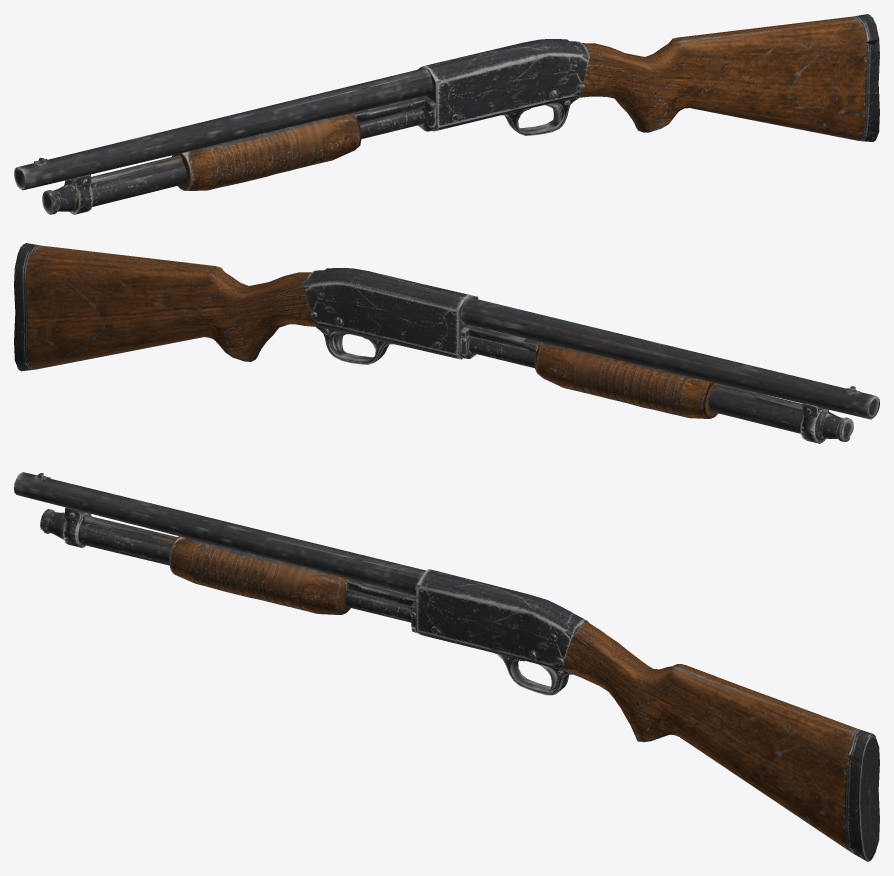
Rendered from Meshy_AI_model.fbx.
The picture shows the model from 3 angles, top to bottom: view 1: azimuth 30°, elevation 25°; view 2: azimuth 150°, elevation 25°; view 3: azimuth 330°, elevation 25°; orthographic projection.
Parts seen in each view (by area): view 1: Mesh_0; view 2: Mesh_0; view 3: Mesh_0.
Boxes of the visible parts, <box> form: Mesh_0: <box>14,14,879,214</box>; Mesh_0: <box>14,243,879,443</box>; Mesh_0: <box>14,472,879,861</box>.
Bounding box in the file's own units: 95.17 × 19.78 × 4.64.
Materials: 1 (1 with a texture image).
